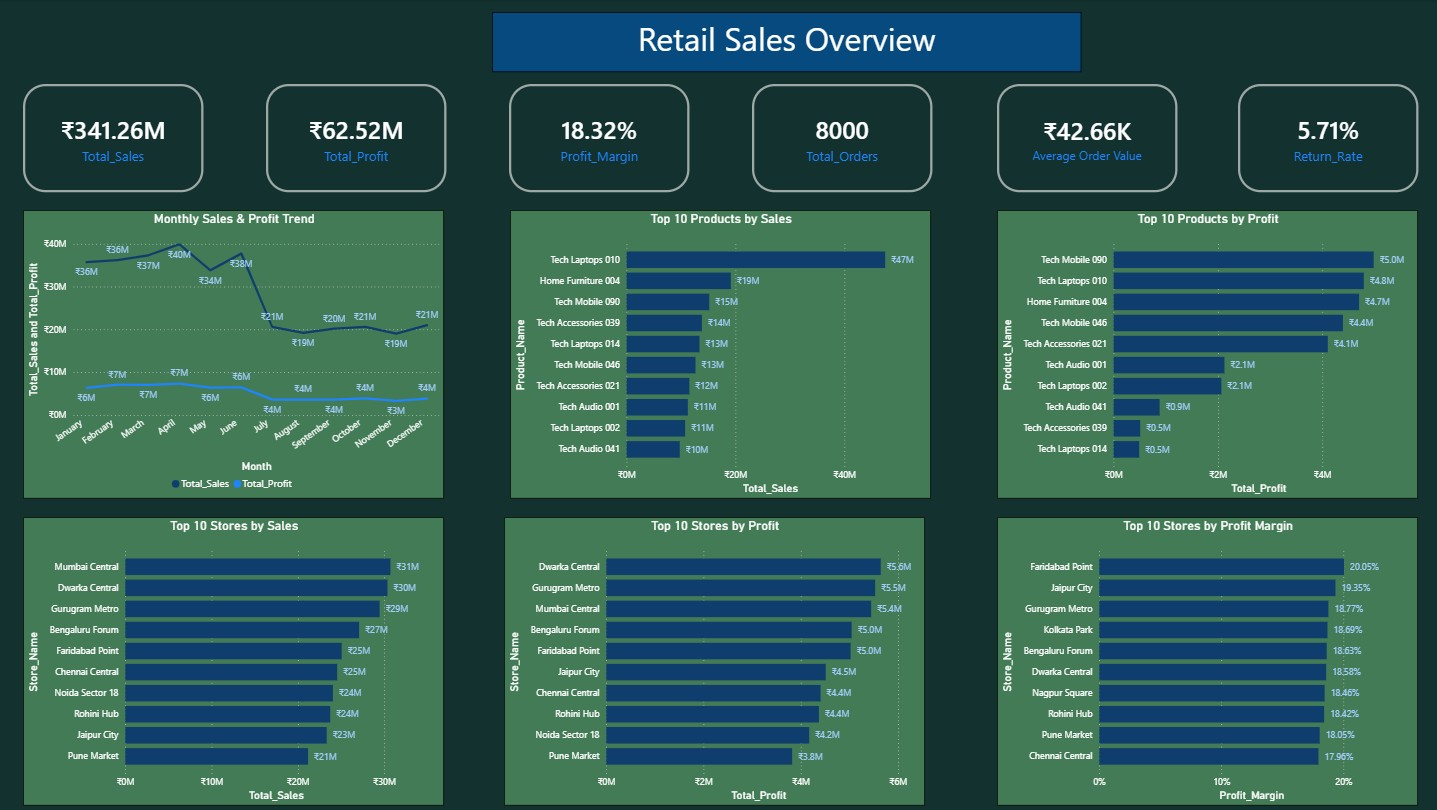

The dashboard page shown, as its layout file describes it:
{"tool":"powerbi","page":{"name":"Executive Overview","canvas":[1920,1080],"ordinal":0},"visuals":[{"type":"cardVisual","fields":{"Data":["Sales_Transactions.Total_Sales"]},"box":[32,112,240,144],"z":0},{"type":"cardVisual","fields":{"Data":["Sales_Transactions.Total_Profit"]},"box":[355.2,112.3,240,144],"z":1000},{"type":"cardVisual","fields":{"Data":["Sales_Transactions.Profit_Margin"]},"box":[678.4,112.3,240,144],"z":2000},{"type":"cardVisual","fields":{"Data":["Sales_Transactions.Total_Orders"]},"box":[1001.6,112.3,240,144],"z":3000},{"type":"cardVisual","fields":{"Data":["Sales_Transactions.Average_Order_Value"]},"box":[1328,112,240,144],"z":4000},{"type":"cardVisual","fields":{"Data":["Returns.Return_Rate"]},"box":[1648,112,240,144],"z":5000},{"type":"textbox","box":[656,16,784,80],"z":6000},{"type":"lineChart","title":"Monthly Sales & Profit Trend","fields":{"Category":["Sales_Transactions.Order_Date.Variation.Date Hierarchy.Month"],"Y":["Sales_Transactions.Total_Sales","Sales_Transactions.Total_Profit"]},"box":[31.7,278.7,560,384],"z":7000},{"type":"clusteredBarChart","title":"Top 10 Products by Sales","fields":{"Category":["Products.Product_Name"],"Y":["Sales_Transactions.Total_Sales"]},"box":[679.7,278.7,560,384],"z":8000},{"type":"clusteredBarChart","title":"Top 10 Products by Profit","fields":{"Category":["Products.Product_Name"],"Y":["Sales_Transactions.Total_Profit"]},"box":[1327.7,278.7,560,384],"z":9000},{"type":"clusteredBarChart","title":"Top 10 Stores by Sales","fields":{"Category":["Stores.Store_Name"],"Y":["Sales_Transactions.Total_Sales"]},"box":[32,688,560,384],"z":10000},{"type":"clusteredBarChart","title":"Top 10 Stores by Profit Margin","fields":{"Category":["Stores.Store_Name"],"Y":["Sales_Transactions.Profit_Margin"]},"box":[1328,688,560,384],"z":11000},{"type":"clusteredBarChart","title":"Top 10 Stores by Profit","fields":{"Category":["Stores.Store_Name"],"Y":["Sales_Transactions.Total_Profit"]},"box":[672,688,560,384],"z":12000}]}

Visuals, with their boxes in screenshot pixels (x1, y1, x2, y2), scaled from the page's 1920x1080 canvas onto the 1437x810 screenshot:
cardVisual - Sales_Transactions.Total_Sales: {"left": 24, "top": 84, "right": 204, "bottom": 192}
cardVisual - Sales_Transactions.Total_Profit: {"left": 266, "top": 84, "right": 445, "bottom": 192}
cardVisual - Sales_Transactions.Profit_Margin: {"left": 508, "top": 84, "right": 687, "bottom": 192}
cardVisual - Sales_Transactions.Total_Orders: {"left": 750, "top": 84, "right": 929, "bottom": 192}
cardVisual - Sales_Transactions.Average_Order_Value: {"left": 994, "top": 84, "right": 1174, "bottom": 192}
cardVisual - Returns.Return_Rate: {"left": 1233, "top": 84, "right": 1413, "bottom": 192}
textbox: {"left": 491, "top": 12, "right": 1078, "bottom": 72}
"Monthly Sales & Profit Trend" lineChart: {"left": 24, "top": 209, "right": 443, "bottom": 497}
"Top 10 Products by Sales" clusteredBarChart: {"left": 509, "top": 209, "right": 928, "bottom": 497}
"Top 10 Products by Profit" clusteredBarChart: {"left": 994, "top": 209, "right": 1413, "bottom": 497}
"Top 10 Stores by Sales" clusteredBarChart: {"left": 24, "top": 516, "right": 443, "bottom": 804}
"Top 10 Stores by Profit Margin" clusteredBarChart: {"left": 994, "top": 516, "right": 1413, "bottom": 804}
"Top 10 Stores by Profit" clusteredBarChart: {"left": 503, "top": 516, "right": 922, "bottom": 804}
